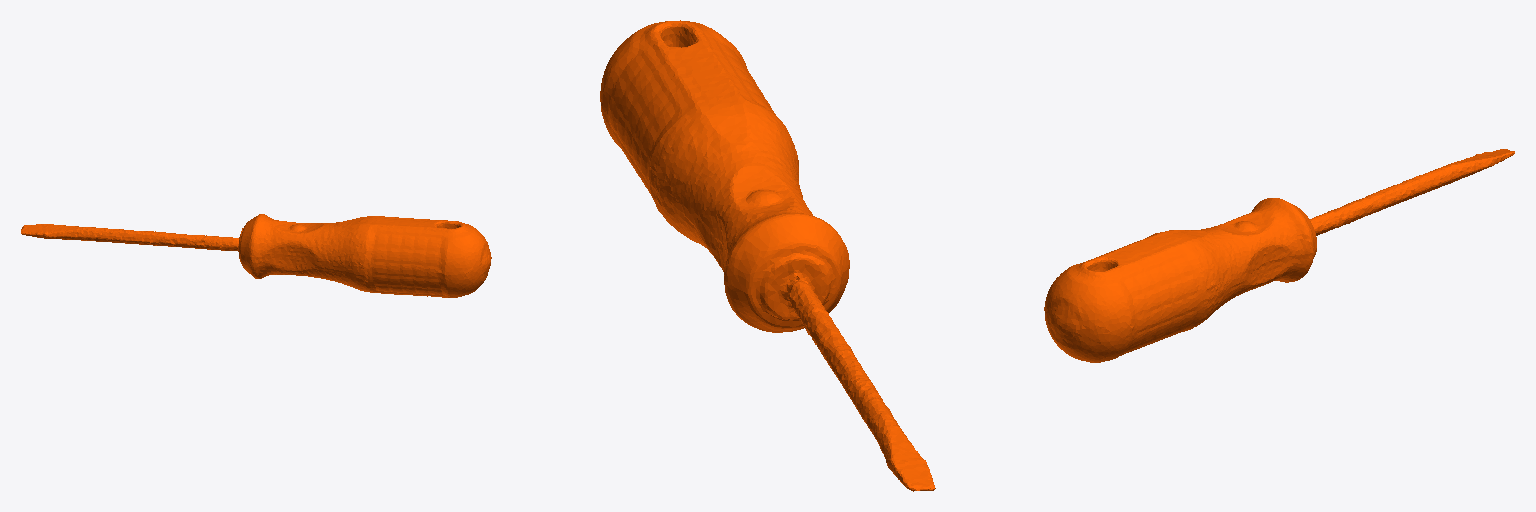
The robot description file, URDF, robot "044_flat_screwdriver":
<?xml version="1.0" ?>
<robot name="044_flat_screwdriver">
   <material name="obj_color">
      <color rgba="1.0 0.423529411765 0.0392156862745 1.0"/>
   </material>
   <link name="top">
      <inertial>
         <origin rpy="1.667893806426993e-05 0.0002048896148629914 0.0002049351131803249" xyz="0.01756686206901348 -0.01697541115793894 0.0005714325873359929"/>
         <mass value="0.1493838807457658"/>
         <inertia ixx="0.0001074488525605568" ixy="9.390476023157728e-05" ixz="-5.191070147231785e-06" iyy="0.0001144023078436009" iyz="5.022320869286401e-06" izz="0.0002046525057034286"/>
      </inertial>
      <visual>
         <origin rpy="0 0 0" xyz="0 0 0"/>
         <geometry>
            <mesh filename="top_watertight_tiny.stl" scale="1 1 1"/>
         </geometry>
         <material name="obj_color"/>
      </visual>
      <collision>
         <origin rpy="0 0 0" xyz="0 0 0"/>
         <geometry>
            <mesh filename="top_watertight_tiny.obj" scale="1 1 1"/>
         </geometry>
      </collision>
   </link>
   <link name="bottom">
      <inertial>
         <origin rpy="1.633333333199431e-08 1.633333333199431e-08 1.633333333362855e-08" xyz="0.3464080000000008 0.3464080000000008 0.3464080000000008"/>
         <mass value="0.0009800000000000017"/>
         <inertia ixx="1.633333333253906e-08" ixy="5.447480642029219e-19" ixz="5.447480642029219e-19" iyy="1.633333333253906e-08" iyz="5.447480642029219e-19" izz="1.633333333253906e-08"/>
      </inertial>
      <visual>
         <origin rpy="0 0 0" xyz="0 0 0"/>
         <geometry>
            <mesh filename="bottom_watertight_tiny.stl" scale="1 1 1"/>
         </geometry>
         <material name="obj_color"/>
      </visual>
   </link>
   <joint name="rotation" type="revolute">
      <origin xyz="0 0 0"/>
      <axis xyz="0 0 -1"/>
      <parent link="bottom"/>
      <child link="top"/>
      <dynamics damping="1.0" friction="1.0"/>
      <limit effort="0.1" velocity="0.1" lower="0" upper="0.001"/>
   </joint>
</robot>

--- What the picture shows (computed from the rendered views, not written in the file) ---
3 views of the same robot in one strip: view 1: azimuth 30°, elevation 25°; view 2: azimuth 150°, elevation 25°; view 3: azimuth 270°, elevation 25° (orthographic).
Robot: 044_flat_screwdriver — 2 links, 1 joints (1 revolute); root link bottom; default pose: every joint at zero.
Visible links, largest first — view 1: top; view 2: top; view 3: top.
Boxes of the visible links, box(x1,y1,x2,y2) form: top: box(21, 214, 491, 297); top: box(600, 20, 935, 491); top: box(1044, 149, 1514, 362).
Size in the robot's own frame: 0.1619 by 0.1569 by 0.035 metres.
Meshes: 2 distinct files referenced, 1 mesh visuals loaded (1 binary STL); not drawn: 1 (reference not matched to a file when rendering).
